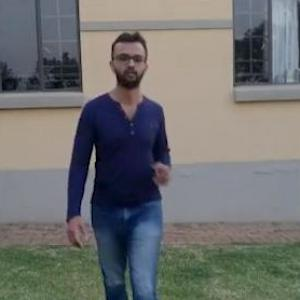follow: (61, 26, 170, 299)
